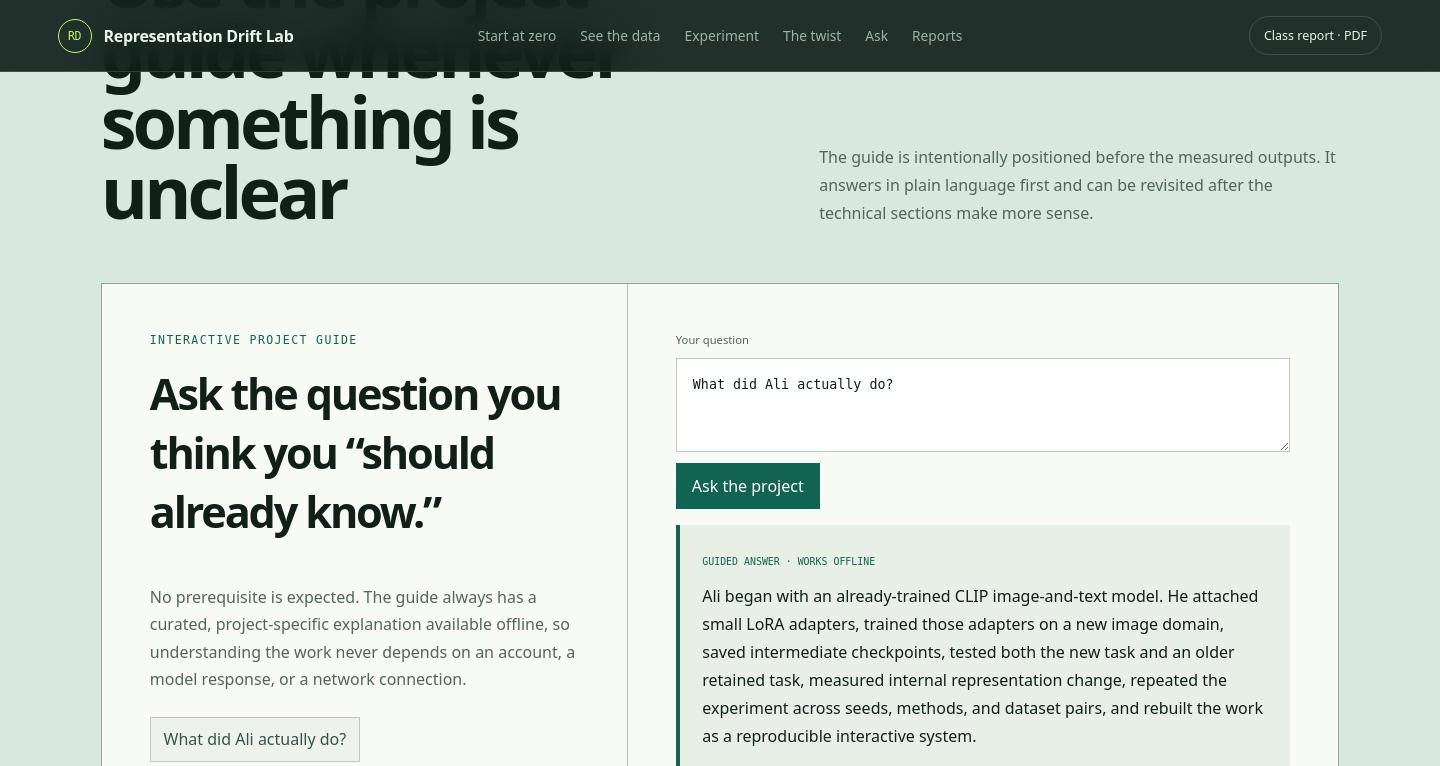
Scenario: portfolio visitor flow › keeps apparent sensitive input in the browser instead of sending it to the guide
(page scrolled)
Replace the text in the text box labelled "Your question" with "My email is ali@example.com. Explain LoRA.": coordinates (983, 405) [676,358,1290,452]
(page scrolled)
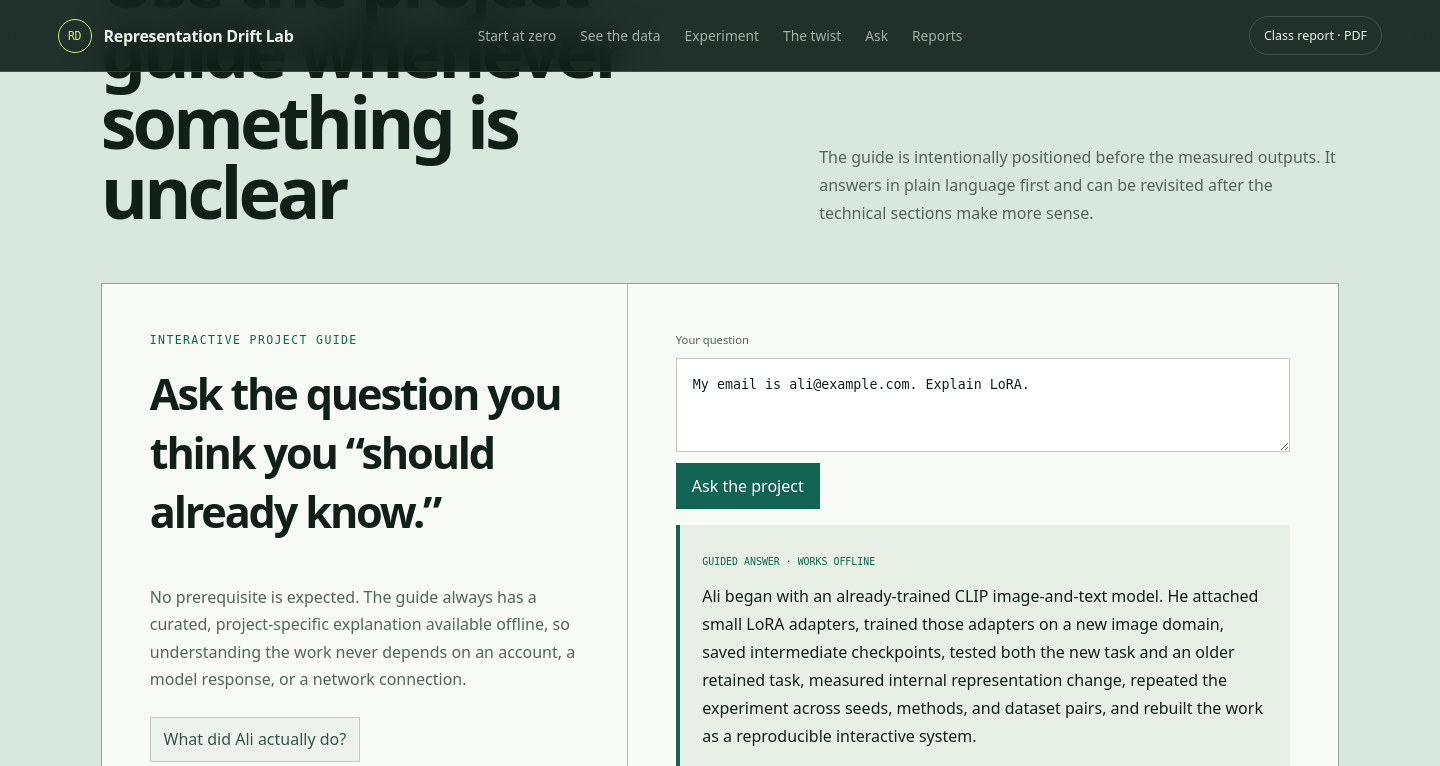
Click the button "Ask the project": coordinates (748, 486) [676,463,820,509]
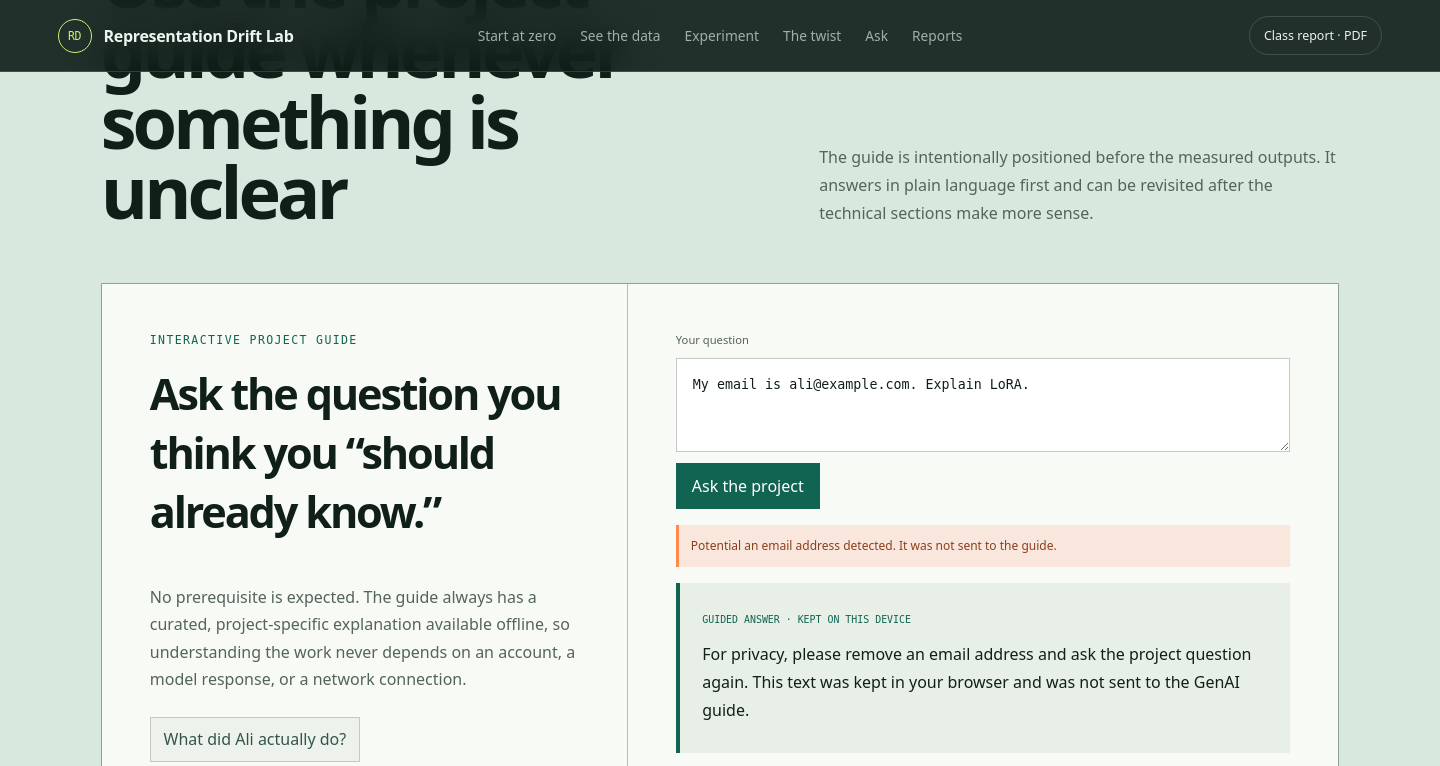
Expected: the text "Potential an email address detected. It was not sent to the guide." is shown, [676,525,1290,567]
Expected: the text "Guided answer · kept on this device" is shown, [702,614,911,624]
